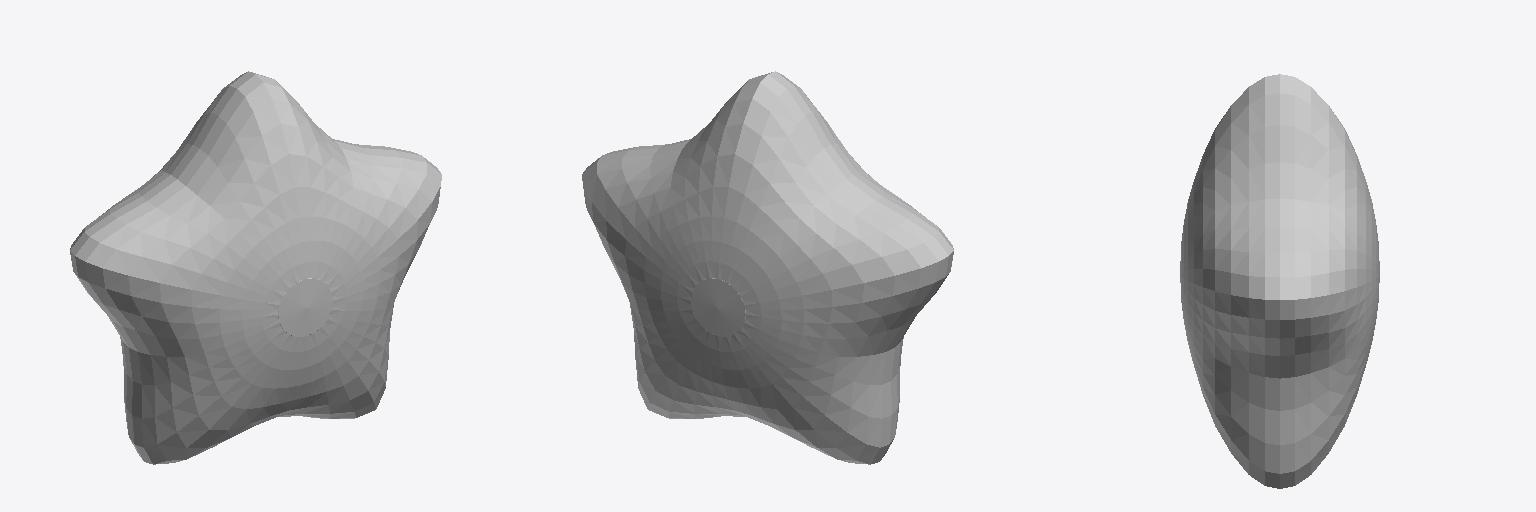
File: star3d.obj
3 renders of one model, left to right at view 1: azimuth 30°, elevation 25°; view 2: azimuth 150°, elevation 25°; view 3: azimuth 270°, elevation 25°, orthographic.
Visible parts, largest first — view 1: Star; view 2: Star; view 3: Star.
Boxes of the visible parts, x1=… form: Star: x1=70, y1=71, x2=441, y2=464; Star: x1=582, y1=71, x2=953, y2=464; Star: x1=1180, y1=74, x2=1379, y2=488.
Size of the model in its own units: 72.04 by 69.17 by 34.49.